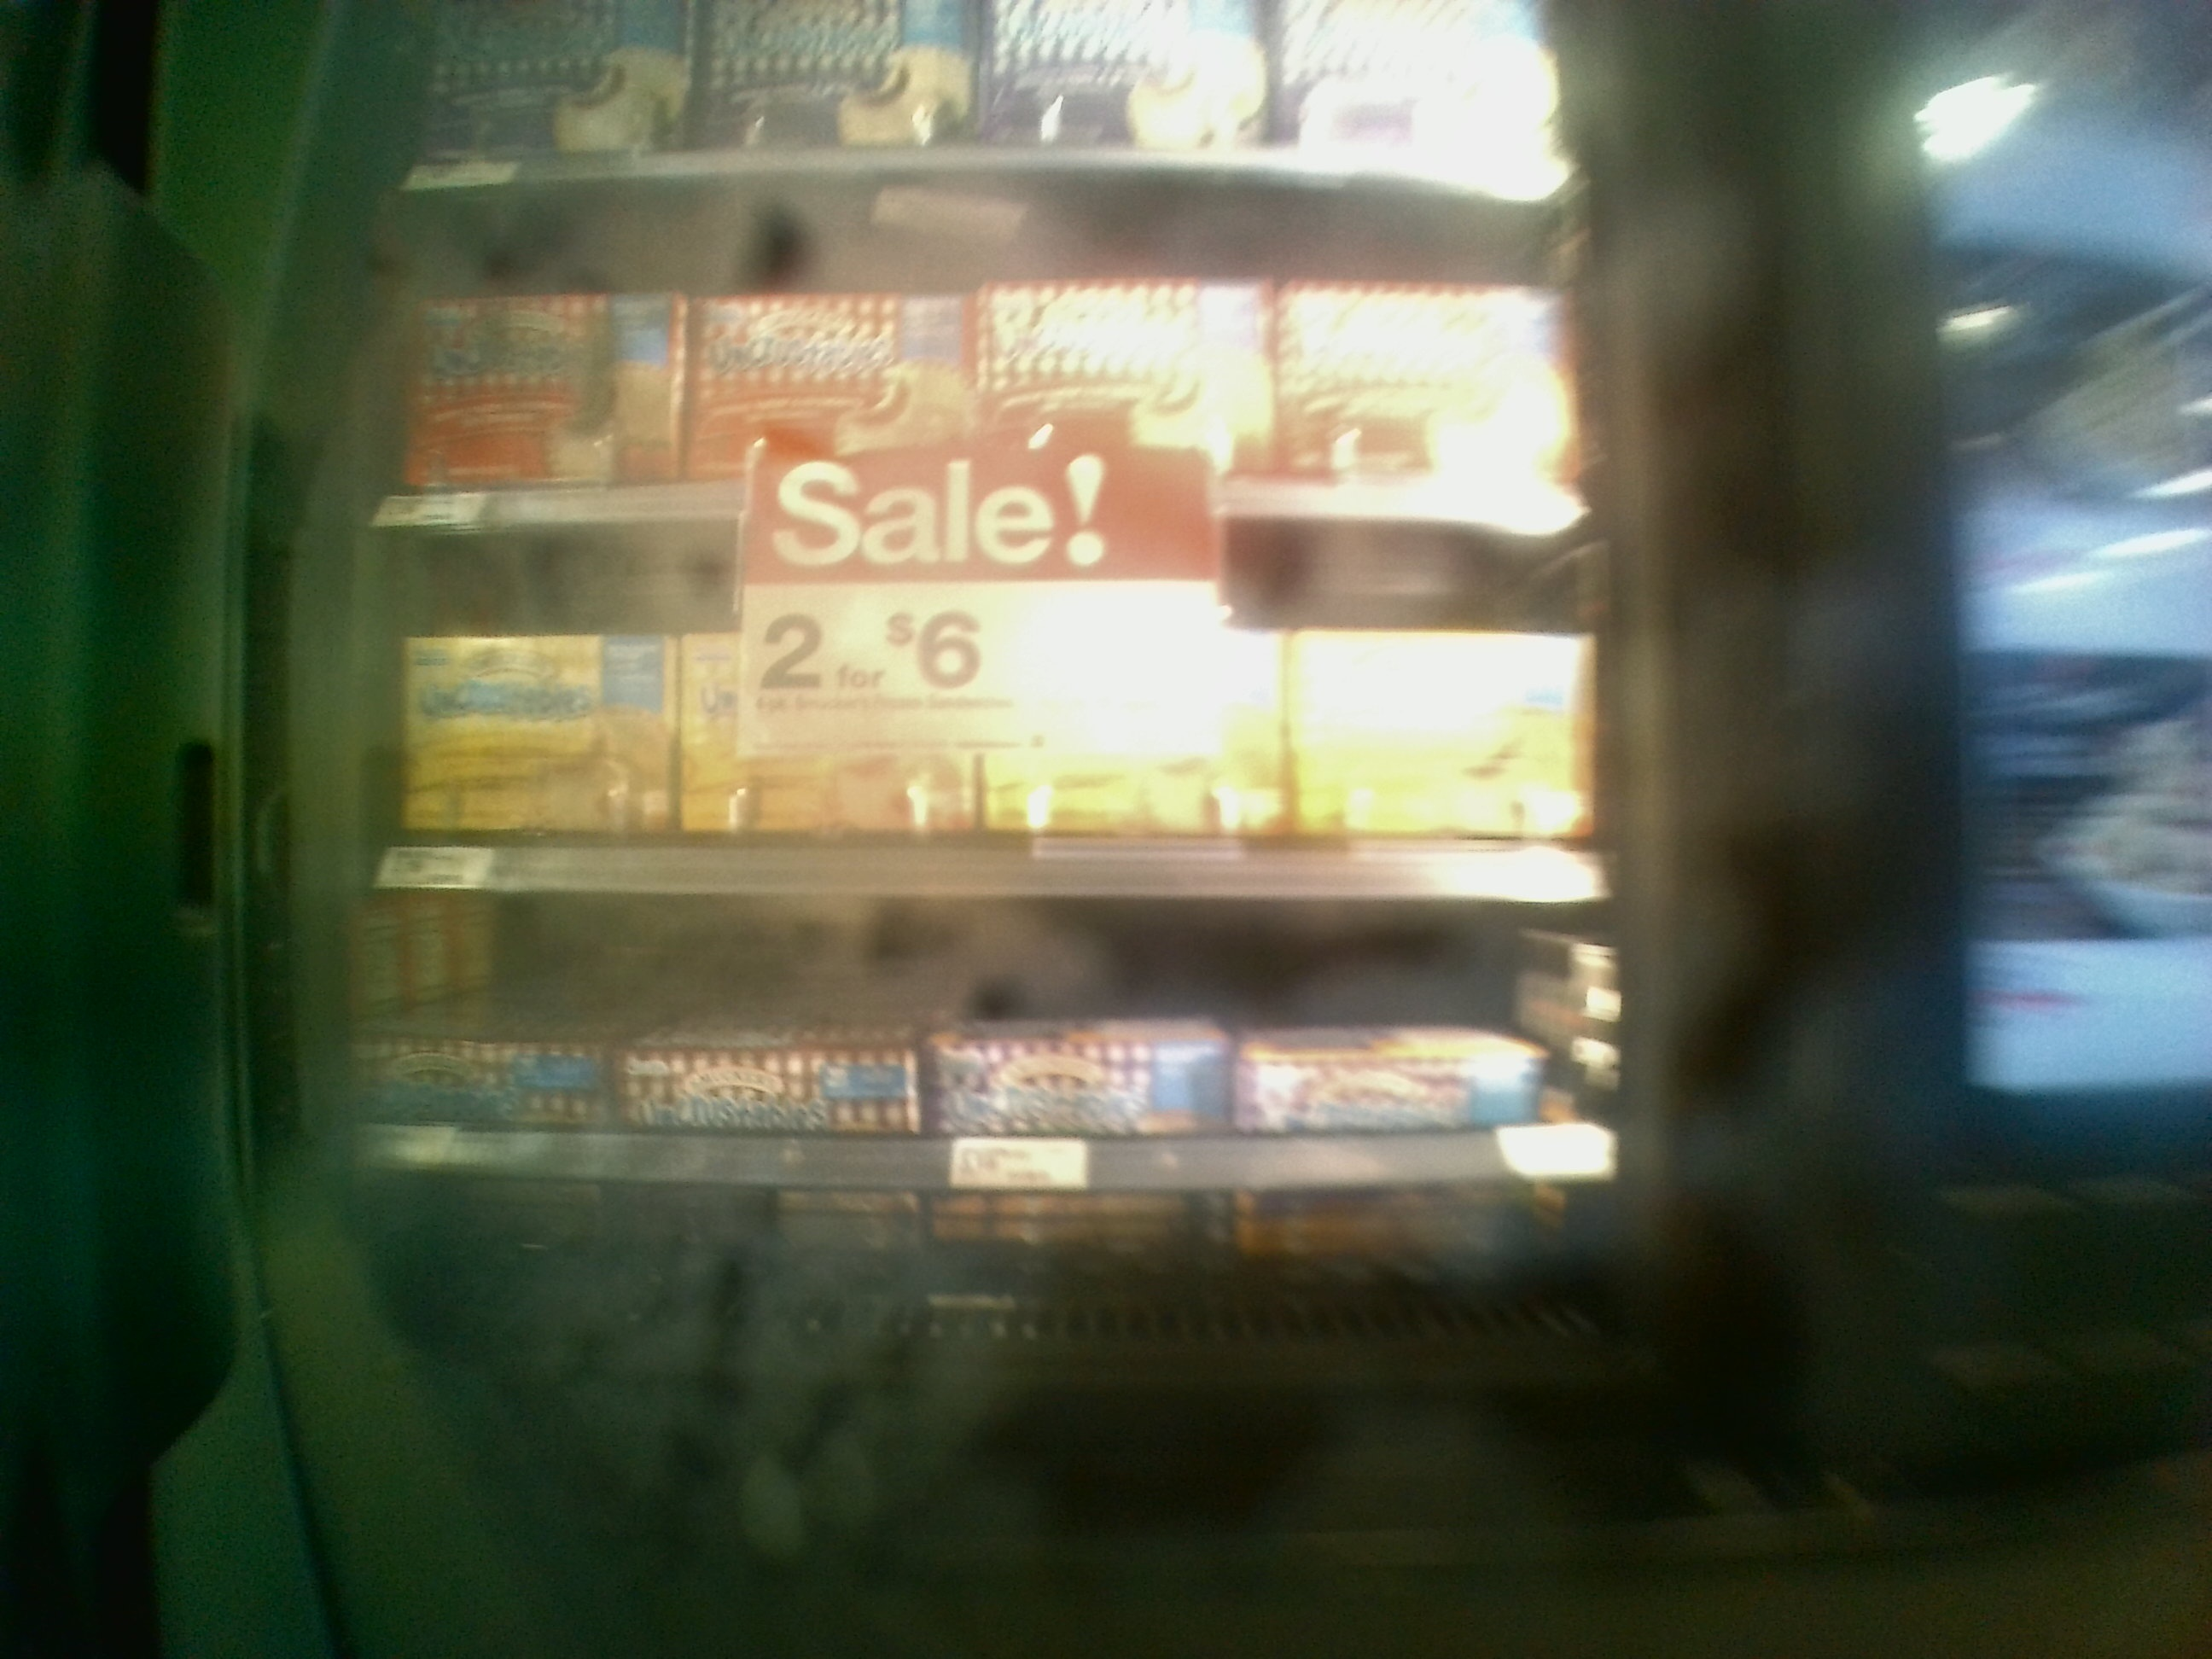shelf: (329, 892, 1649, 1385), (354, 523, 1602, 906), (374, 176, 1583, 538)
